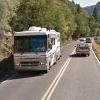Bus: (11, 23, 63, 77)
